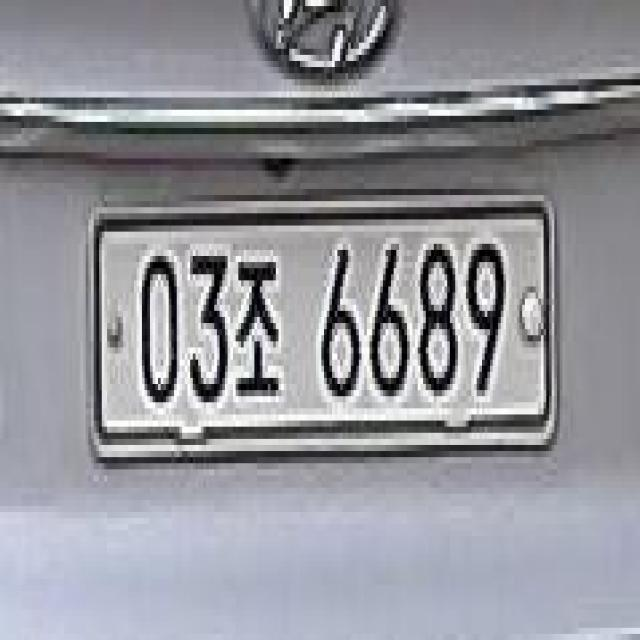illegal_plate: (87, 184, 562, 473)
